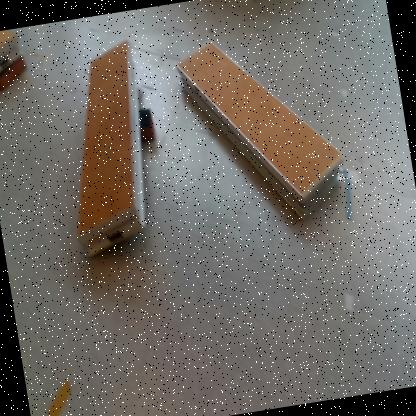Stairs: (176, 42, 346, 222), (81, 42, 147, 258), (1, 30, 24, 74)
